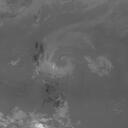cyclone: (30, 43, 84, 86)
